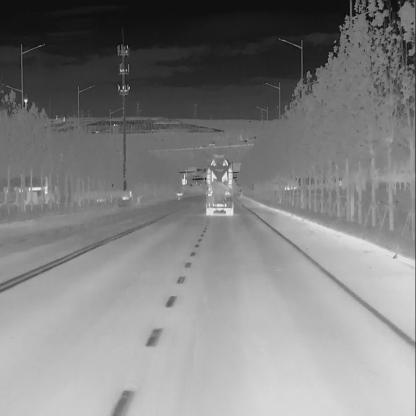truck: (204, 150, 236, 216)
